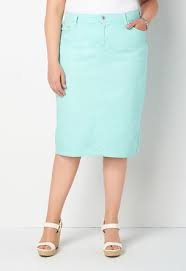C_skirt: (45, 10, 156, 158)
